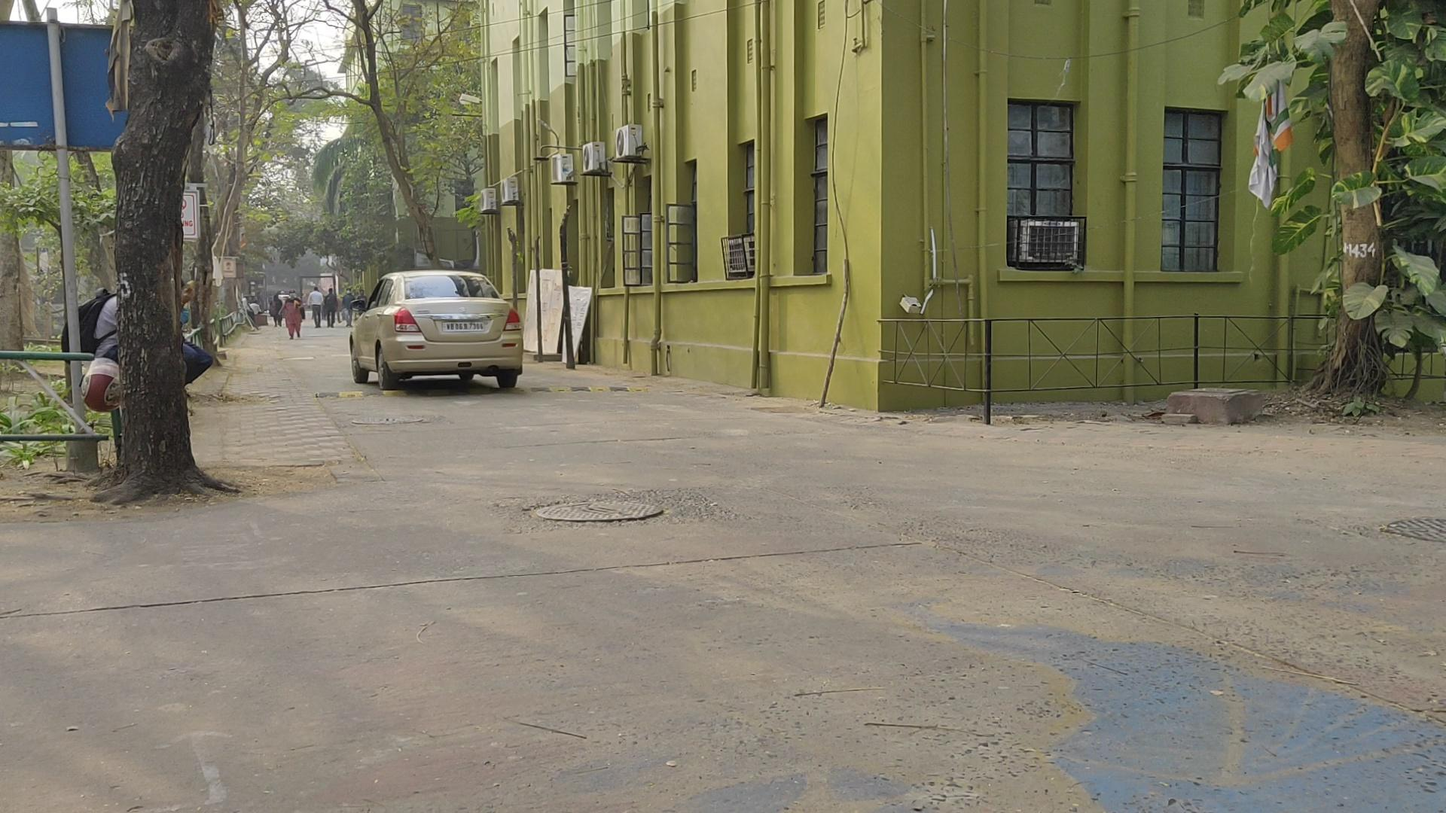car: (349, 271, 522, 392)
